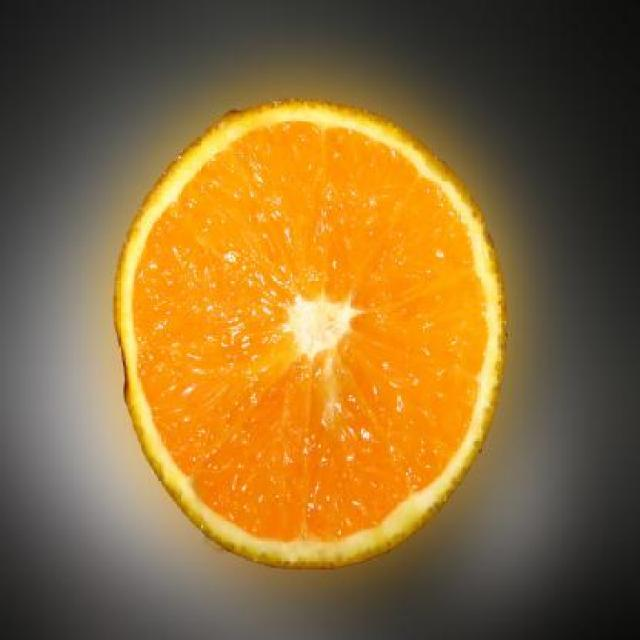Orange: (111, 93, 507, 570)
